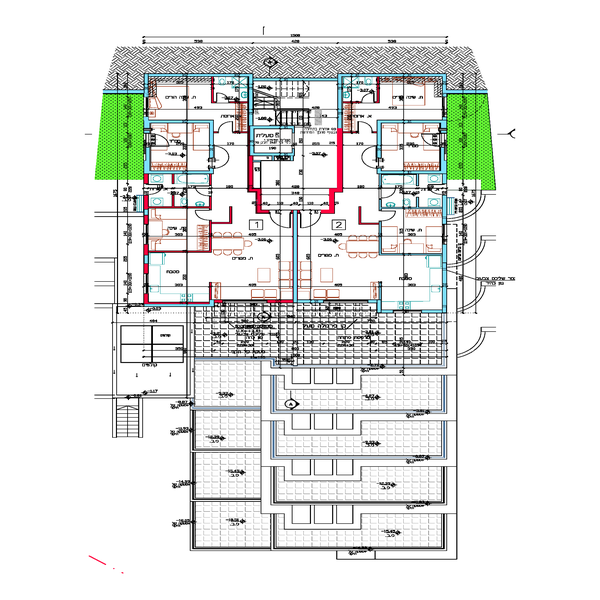door: (151, 133, 177, 159), (302, 204, 322, 232), (268, 207, 289, 233), (377, 197, 397, 222), (378, 179, 400, 199), (193, 204, 213, 224), (217, 114, 234, 137), (359, 84, 375, 107), (198, 177, 214, 198), (357, 119, 373, 140), (218, 88, 233, 109)
room: (247, 74, 347, 215), (374, 71, 447, 259), (292, 203, 383, 307), (141, 248, 301, 305), (147, 69, 249, 124), (149, 172, 216, 254), (150, 117, 217, 178)
wall: (336, 70, 346, 194), (144, 116, 150, 300), (347, 71, 448, 81), (147, 70, 255, 79), (247, 77, 255, 188), (379, 246, 443, 257), (147, 168, 215, 178), (383, 166, 444, 177), (147, 118, 216, 127), (376, 117, 445, 126), (252, 77, 337, 84), (150, 248, 207, 256), (293, 215, 298, 301)
